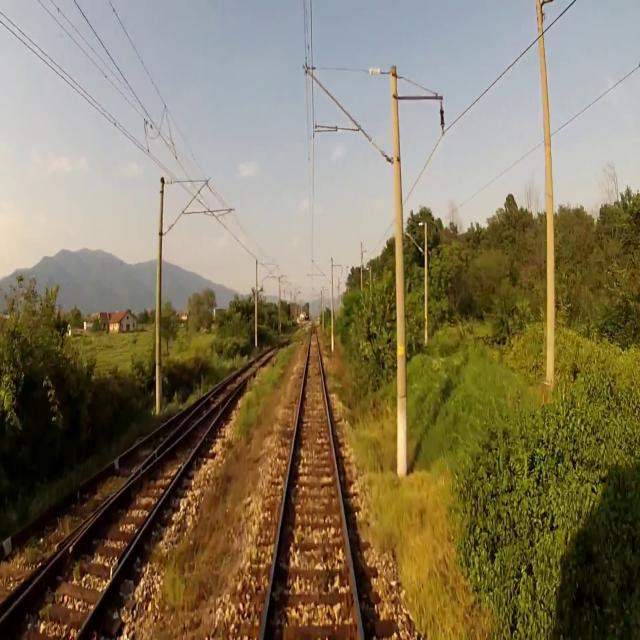rail-track: (0, 402, 224, 639), (0, 407, 193, 600), (263, 325, 359, 639), (164, 353, 270, 447)
